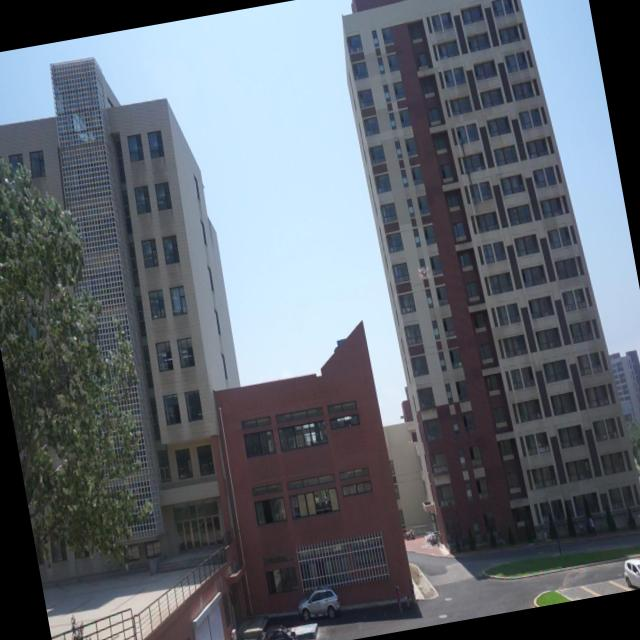drone: (415, 261, 431, 284)
